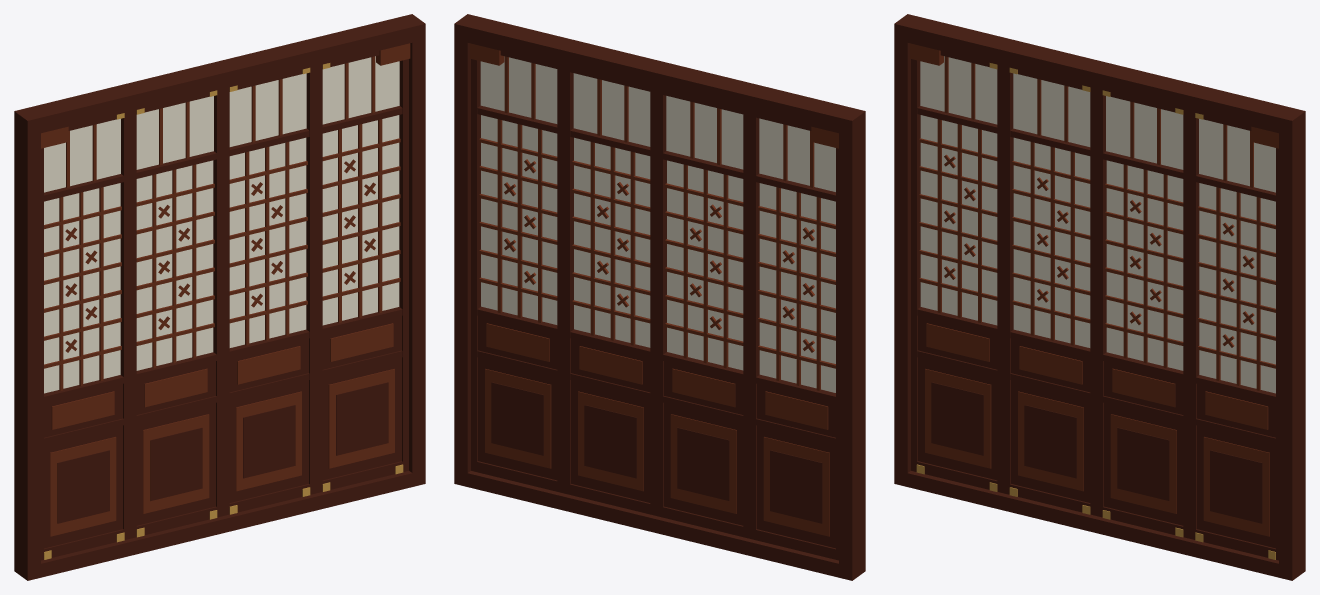
Rendered from pal1-inn-window.glb.
3 renders of one model, left to right at view 1: azimuth 30°, elevation 25°; view 2: azimuth 150°, elevation 25°; view 3: azimuth 330°, elevation 25°, orthographic.
Visible parts, largest first — view 1: Pal1InnWindowBay; view 2: Pal1InnWindowBay; view 3: Pal1InnWindowBay.
Part boxes in pixels (x1,y1,x2,y2): Pal1InnWindowBay: [14, 14, 425, 580]; Pal1InnWindowBay: [454, 14, 865, 580]; Pal1InnWindowBay: [894, 14, 1305, 580].
Size of the model in its own units: 2.4 by 2.65 by 0.14.
